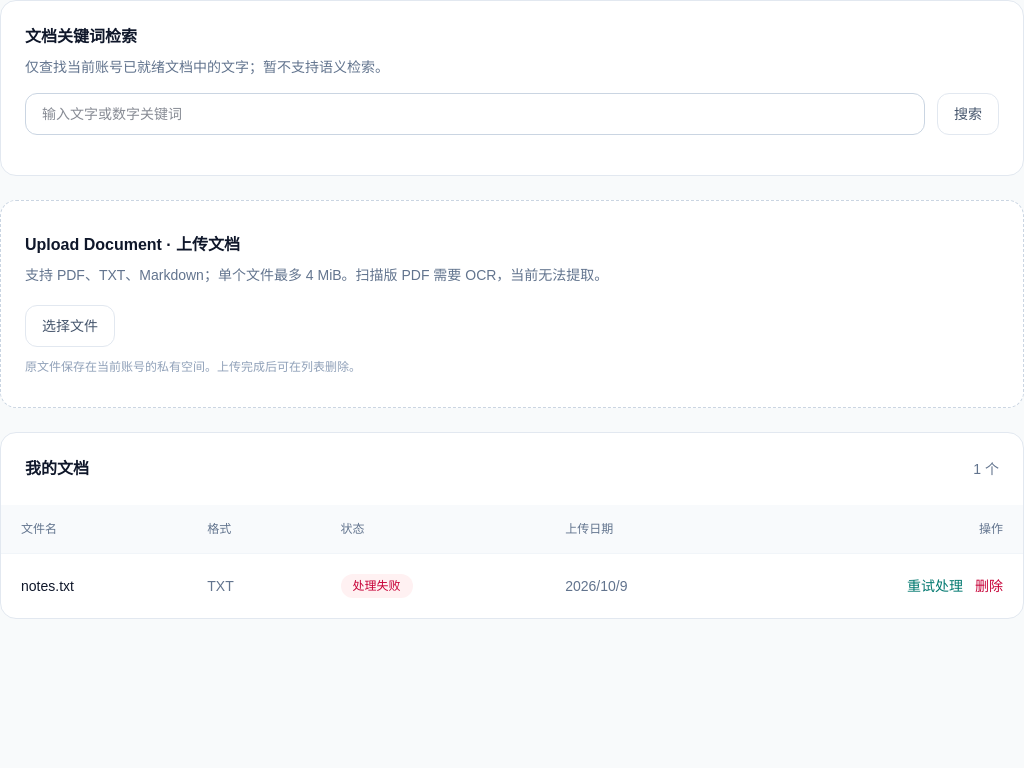
Test: KnowledgeWorkspace › does not report processing success when retry fails
Check: the text "notes.txt" is shown, box 1,554 -> 187,618
Type "过期" into the field named "知识库搜索关键词".
click(475, 114); type("过期")  # box 25,93 -> 925,135
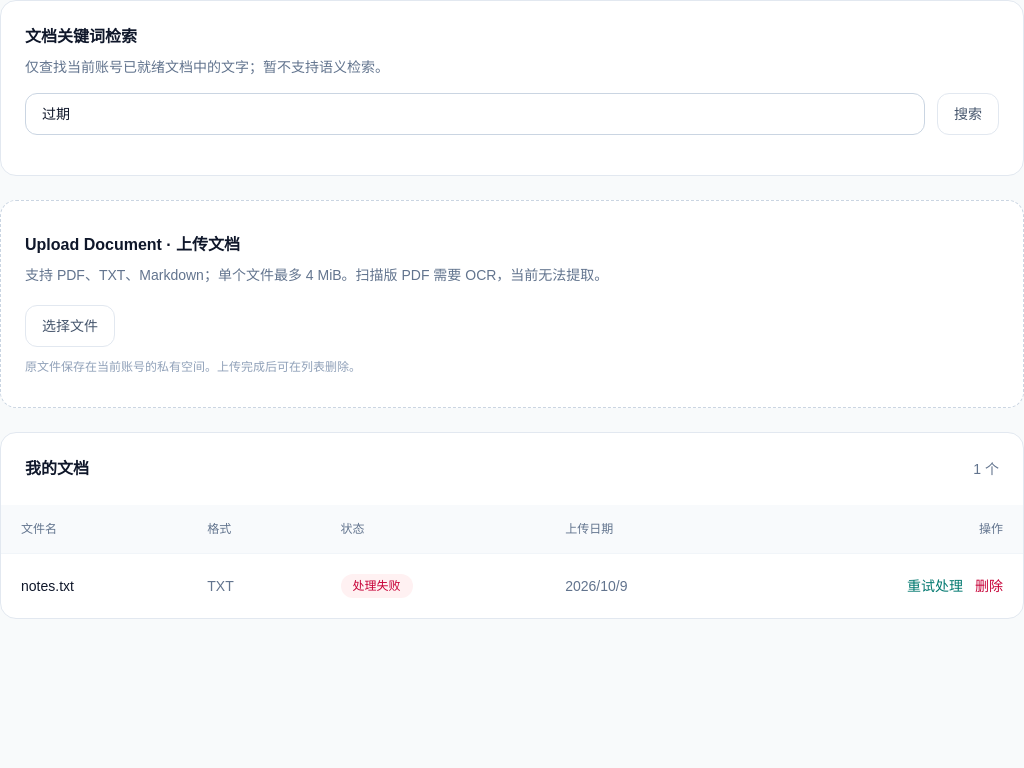
Click the button "搜索".
click(968, 114)  # box 937,93 -> 999,135
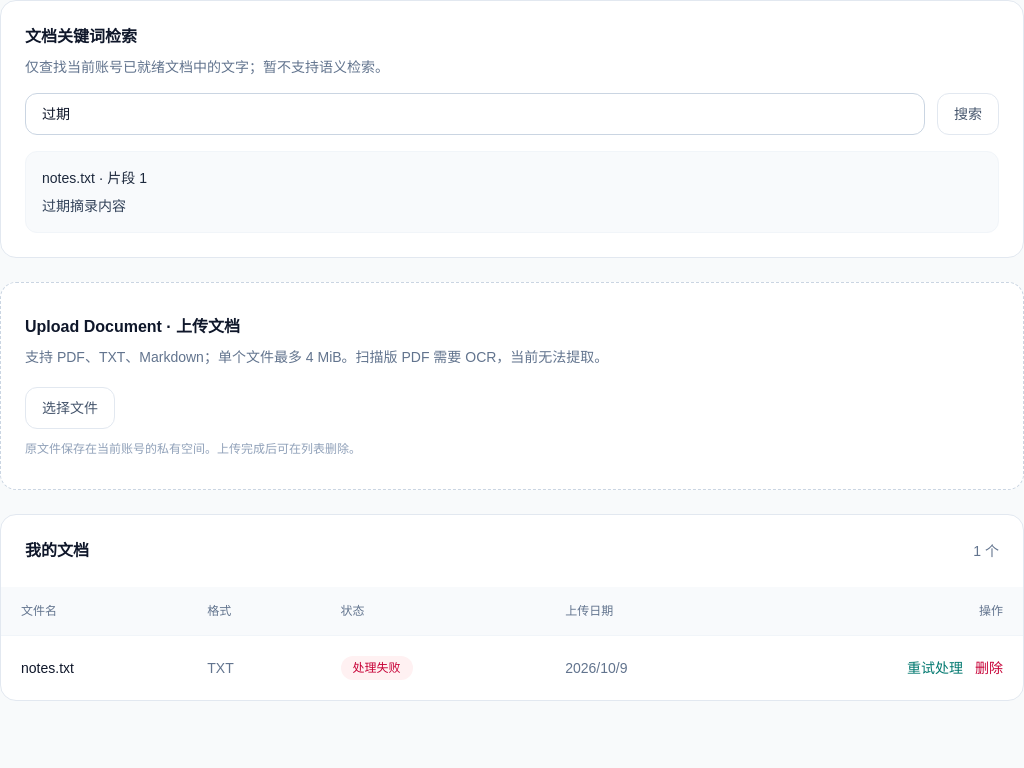
Check: the text "过期摘录内容" is shown, box 42,198 -> 126,214
Click the button "重试处理".
click(935, 668)  # box 907,658 -> 963,678
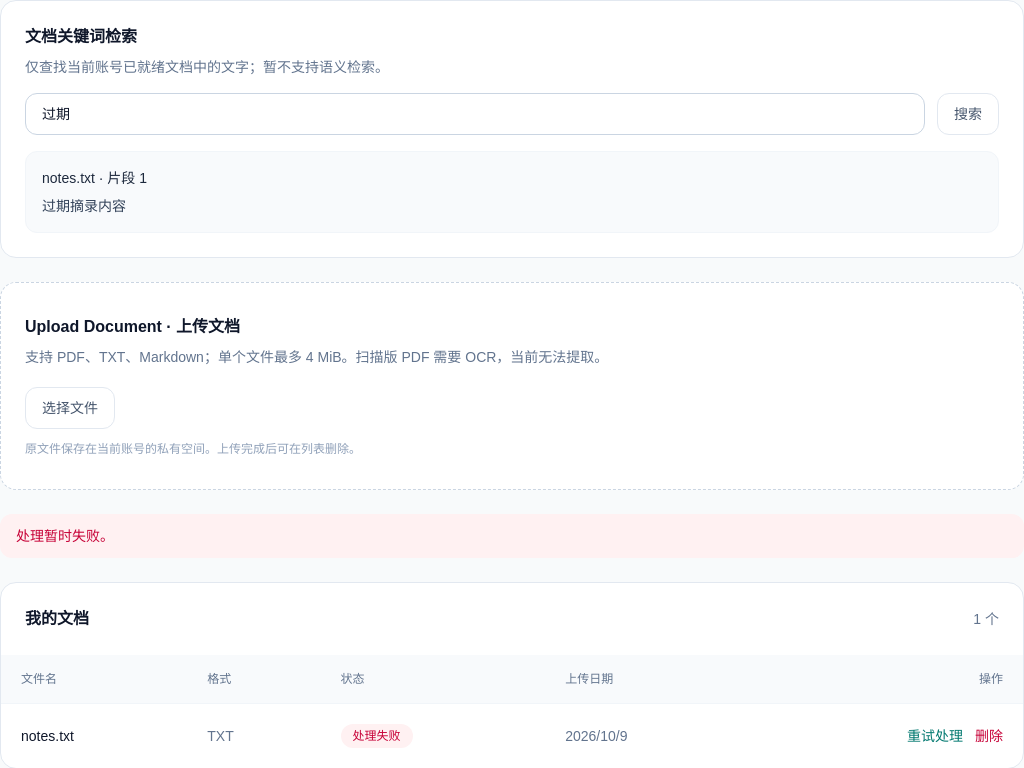
Check: the text "过期摘录内容" is shown, box 42,198 -> 126,214
Check: the message reads "处理暂时失败。", box 16,528 -> 114,544
